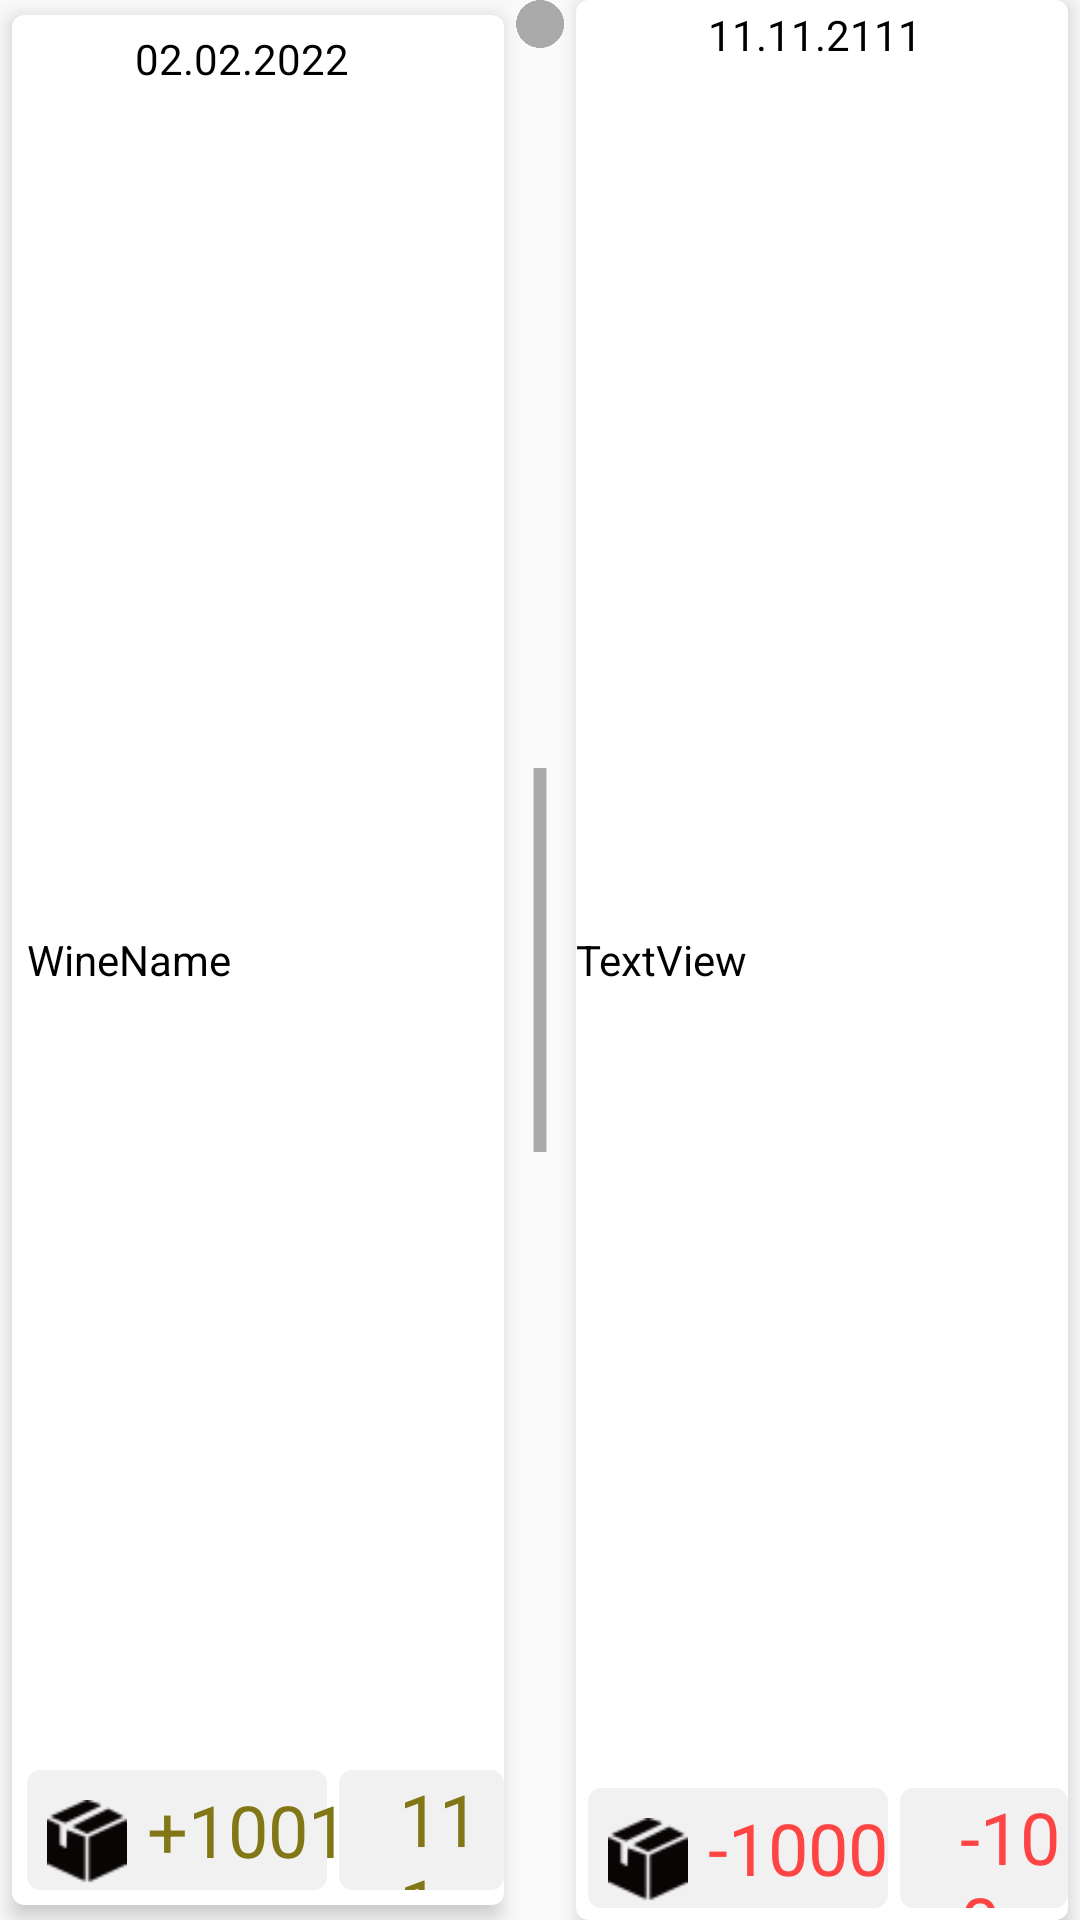

Locate icon controls on the screen. Image size 1080px x 1920px, boxes as (x1, y1, x2, y2).
boxes pictogram: (47, 1800, 127, 1882), (608, 1818, 688, 1900)
